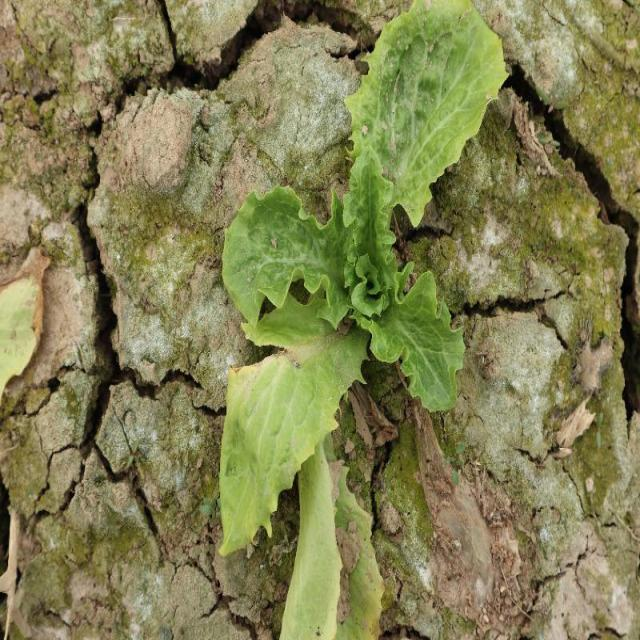crop: (221, 0, 509, 553)
